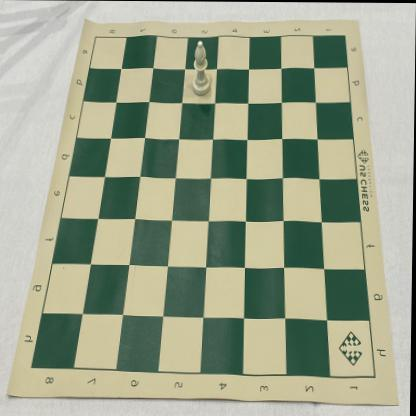white-bishop: (191, 41, 212, 97)
